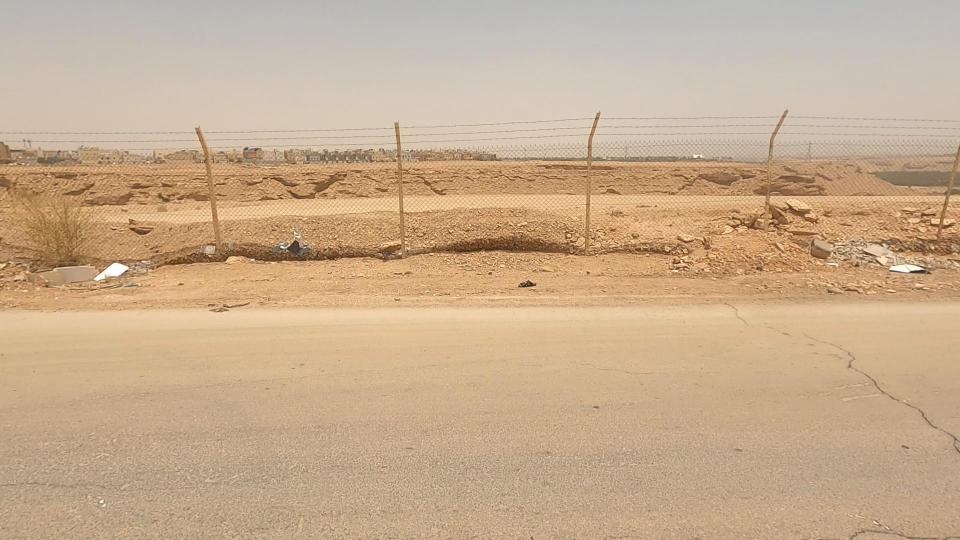GARBAGE: (46, 234, 187, 314), (851, 236, 955, 304), (250, 209, 338, 282)
